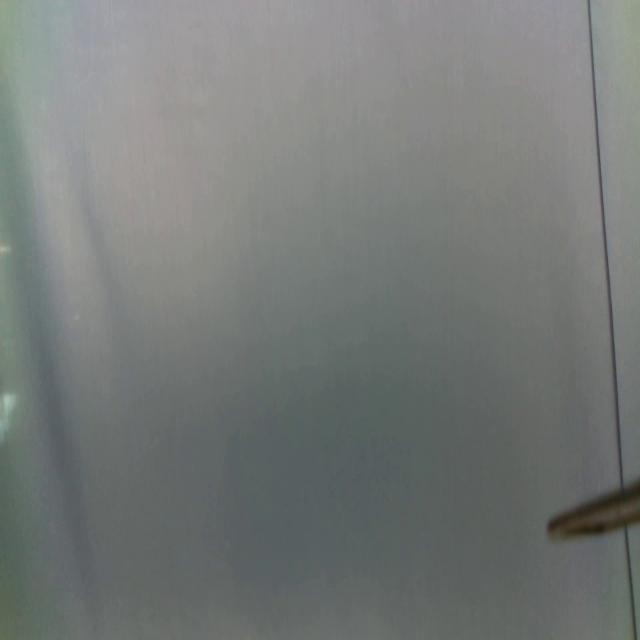crease: (587, 0, 624, 489), (625, 528, 637, 640)
